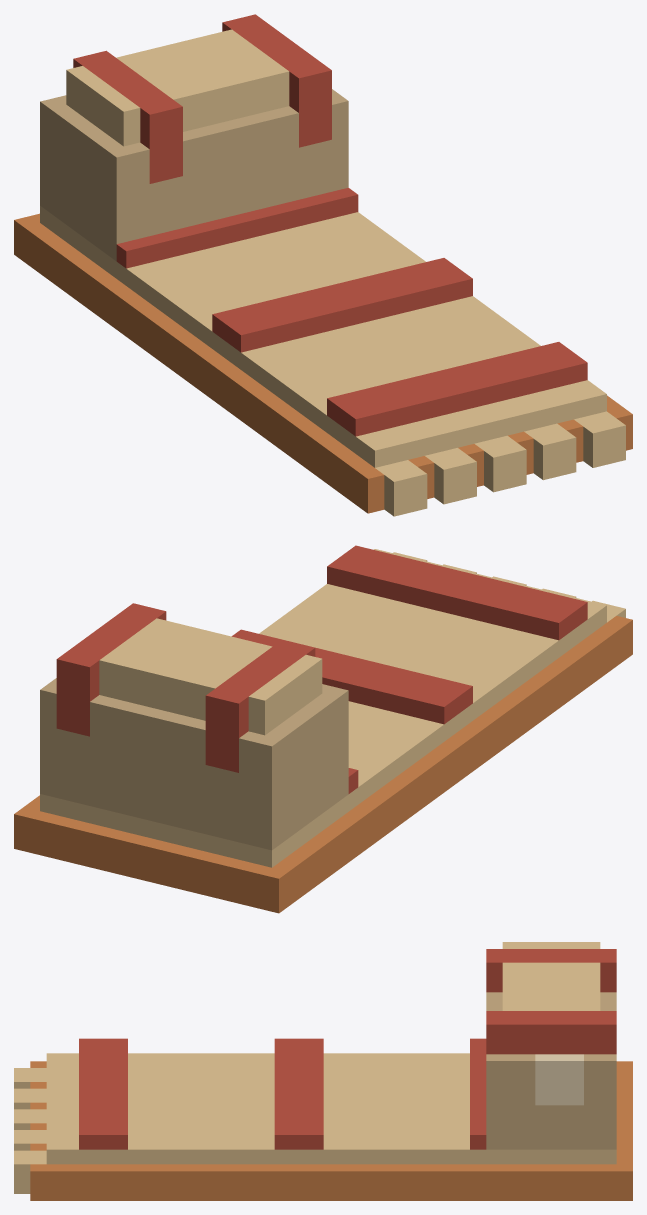
Rendered from FloorMat_1x2.fbx.
The picture shows the model from 3 angles, top to bottom: view 1: azimuth 30°, elevation 25°; view 2: azimuth 150°, elevation 25°; view 3: azimuth 270°, elevation 25°; orthographic projection. The views are drawn at different scales.
Visible parts, largest first — view 1: Woven_Mat, Red_Woven_Bands, Rolled_Blanket_Base, Woven_Mat_Edge, Rolled_Blanket_Top, Mat_Fringes, Rolled_Blanket_Straps; view 2: Rolled_Blanket_Base, Woven_Mat, Woven_Mat_Edge, Red_Woven_Bands, Rolled_Blanket_Top, Rolled_Blanket_Straps, Mat_Fringes; view 3: Woven_Mat, Woven_Mat_Edge, Red_Woven_Bands, Rolled_Blanket_Base, Rolled_Blanket_Straps, Rolled_Blanket_Top, Mat_Fringes, Roll_End_Highlight.
Boxes of the visible parts, bbox=[...] form: Woven_Mat: bbox=[40, 206, 606, 467]; Red_Woven_Bands: bbox=[116, 187, 587, 436]; Rolled_Blanket_Base: bbox=[40, 89, 348, 261]; Woven_Mat_Edge: bbox=[14, 213, 632, 513]; Rolled_Blanket_Top: bbox=[66, 29, 289, 146]; Mat_Fringes: bbox=[375, 411, 625, 516]; Rolled_Blanket_Straps: bbox=[73, 14, 331, 183]; Rolled_Blanket_Base: bbox=[40, 678, 348, 850]; Woven_Mat: bbox=[40, 549, 606, 867]; Woven_Mat_Edge: bbox=[14, 616, 632, 913]; Red_Woven_Bands: bbox=[231, 545, 587, 793]; Rolled_Blanket_Top: bbox=[99, 618, 322, 735]; Rolled_Blanket_Straps: bbox=[56, 603, 315, 772]; Mat_Fringes: bbox=[393, 552, 625, 622]; Woven_Mat: bbox=[46, 1053, 616, 1164]; Woven_Mat_Edge: bbox=[30, 1061, 632, 1200]; Red_Woven_Bands: bbox=[79, 1038, 486, 1149]; Rolled_Blanket_Base: bbox=[486, 992, 616, 1149]; Rolled_Blanket_Straps: bbox=[486, 949, 616, 1054]; Rolled_Blanket_Top: bbox=[502, 942, 600, 1010]; Mat_Fringes: bbox=[14, 1068, 46, 1193]; Roll_End_Highlight: bbox=[535, 1054, 583, 1105].
Bounding box in the file's own units: 80 × 55 × 190.
